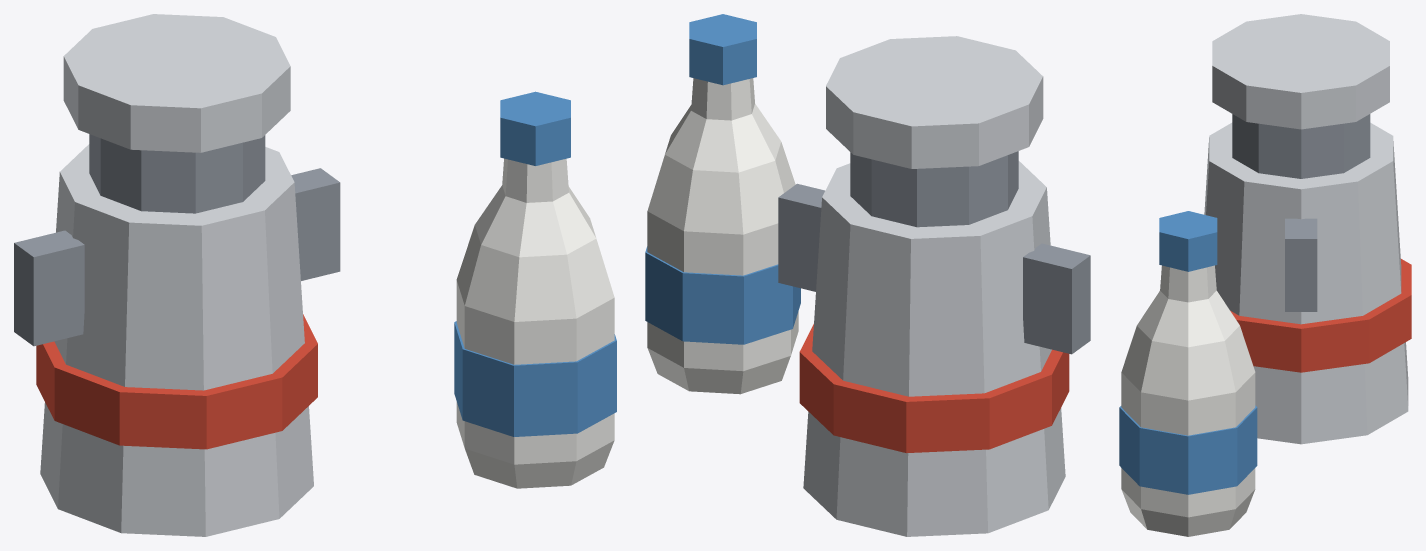
The model's file is milk.glb.
The picture shows the model from 3 angles, left to right: view 1: azimuth 30°, elevation 25°; view 2: azimuth 150°, elevation 25°; view 3: azimuth 270°, elevation 25°; orthographic projection. The views are drawn at different scales.
Parts seen in each view (by area): view 1: milk; view 2: milk; view 3: milk.
Boxes of the visible parts, x1,y1,x2,y2 form: milk: (14,14,616,536); milk: (645,14,1090,536); milk: (1119,14,1411,536).
Size of the model in its own units: 0.3028 by 0.235 by 0.1813.
Materials: 1 (1 with a texture image).
